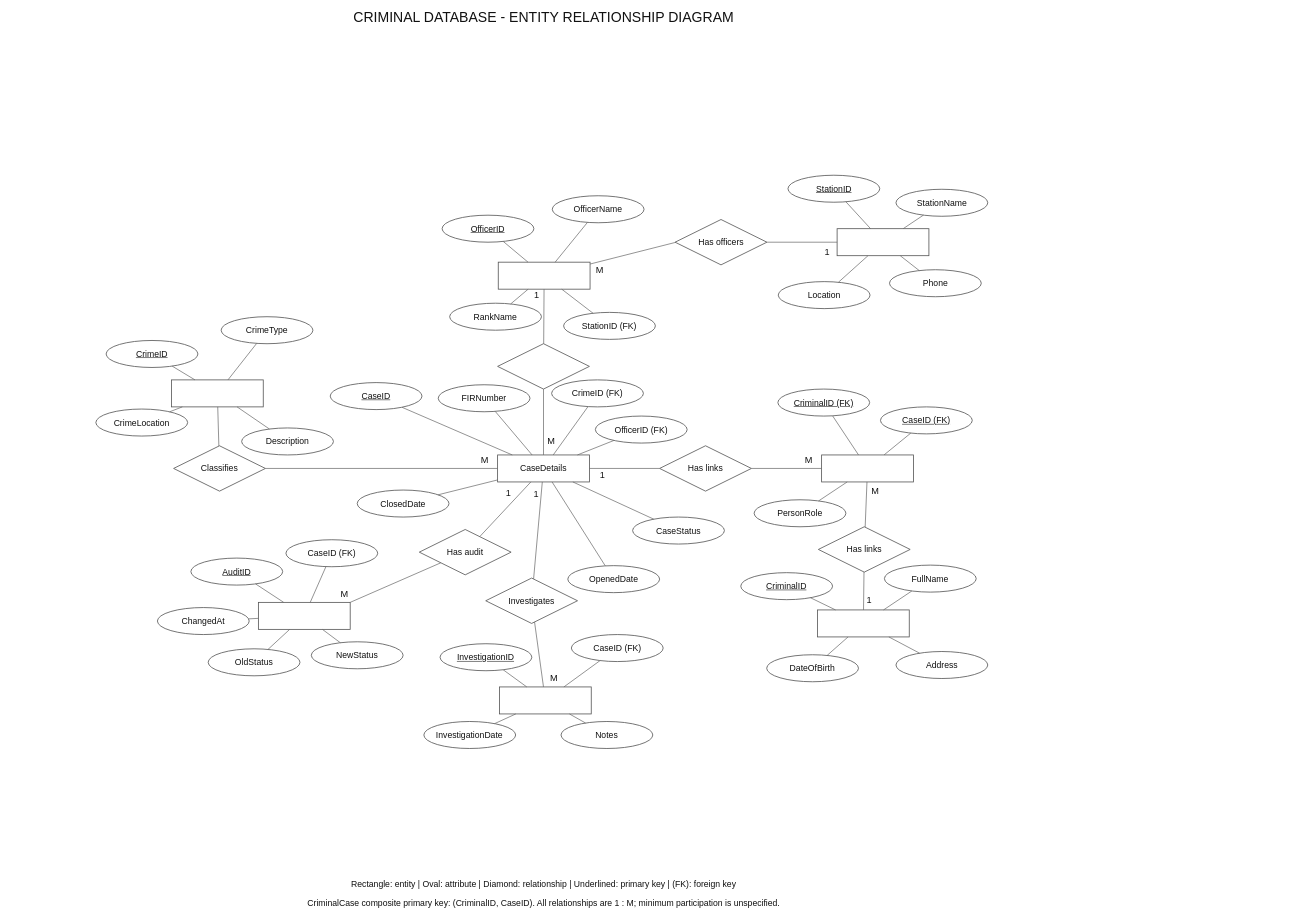
This 1293x921 diagram has some shape labels left out. Here are the shapes that lost their labels. From the top down, the box of each, then its label:
(836, 228, 929, 256): PoliceStation
(498, 262, 590, 289): PoliceOfficer
(497, 343, 590, 389): Handles
(171, 379, 263, 407): Crime
(821, 454, 914, 482): CriminalCase
(258, 602, 350, 630): CaseAudit
(817, 609, 909, 637): Criminal
(499, 686, 591, 714): Investigation
